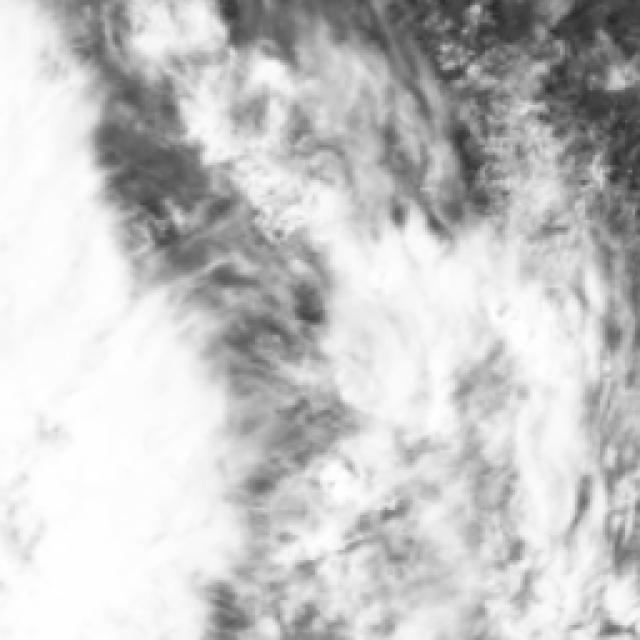CB: (0, 320, 165, 638), (0, 141, 74, 640)
